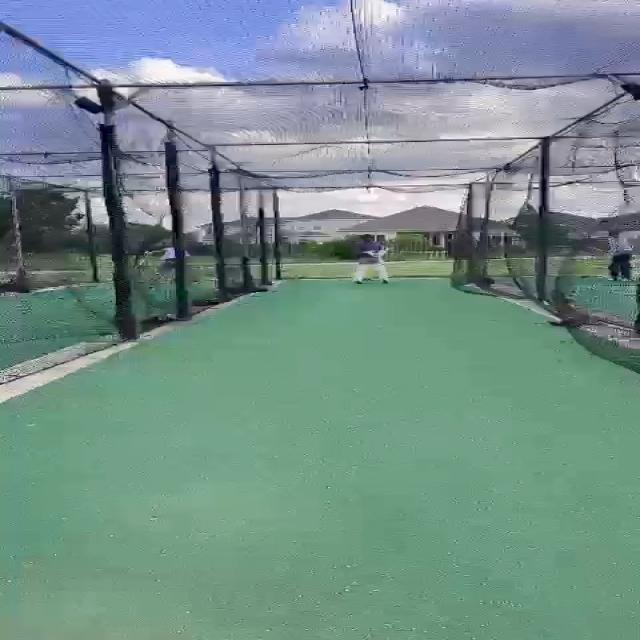batsman: (351, 233, 392, 285)
